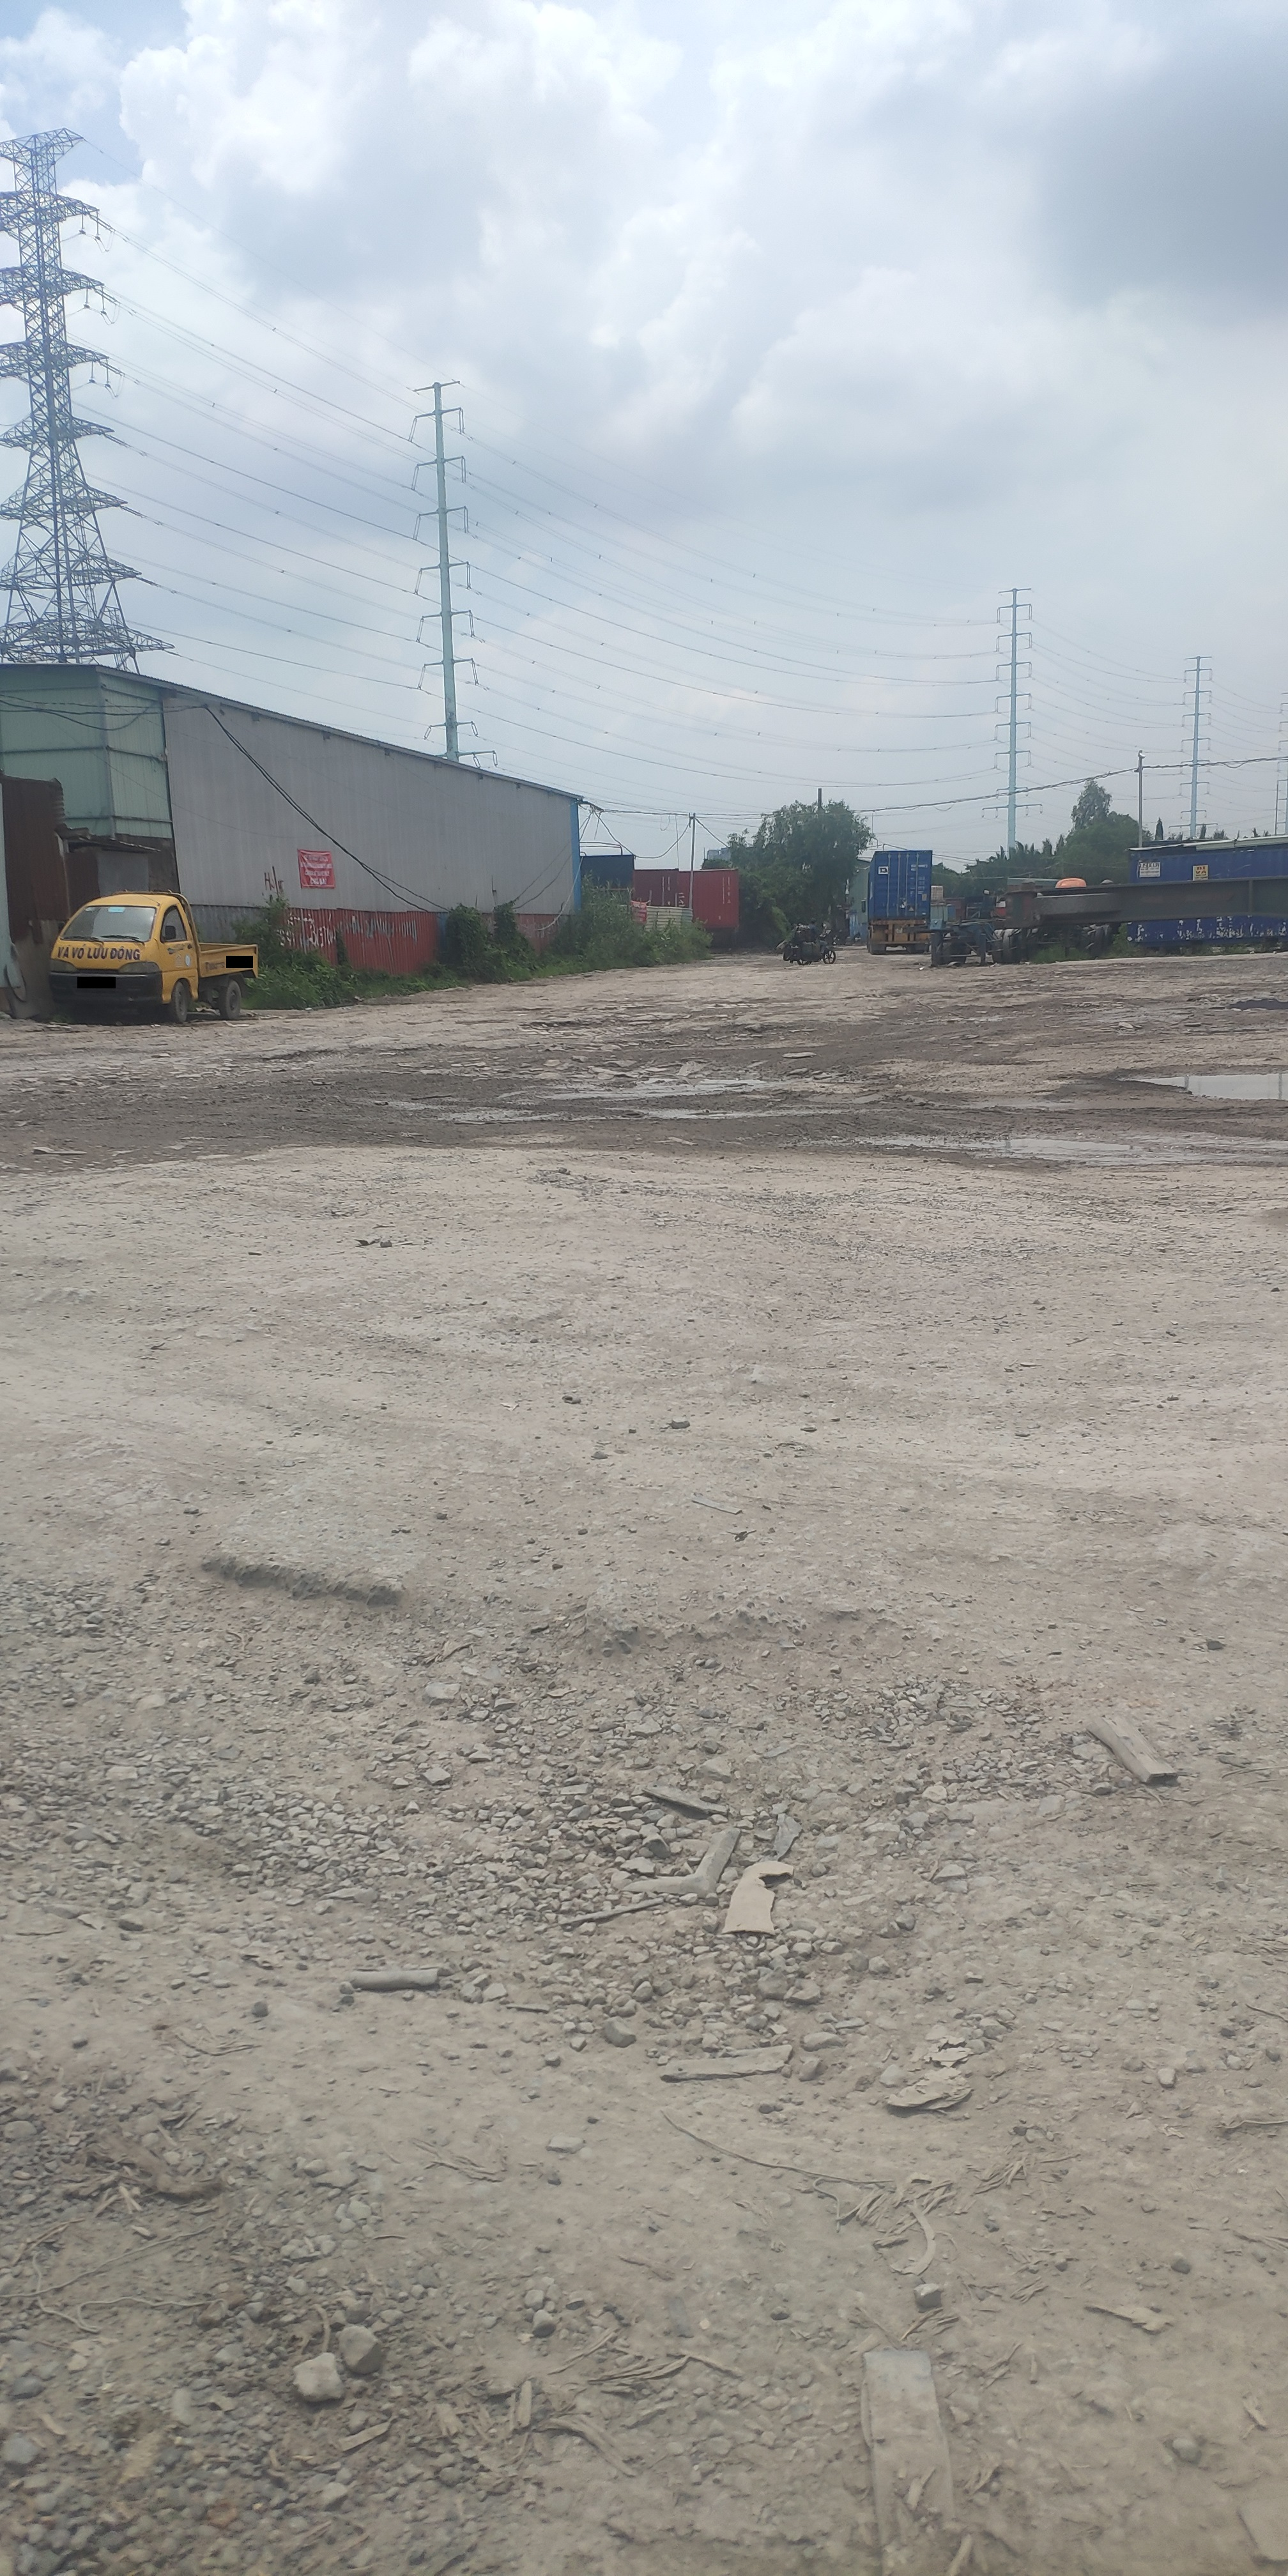hole: (187, 1538, 904, 2042), (1112, 1058, 1288, 1101), (647, 1015, 812, 1053), (516, 1014, 626, 1040), (255, 1045, 356, 1065), (1198, 996, 1288, 1014)
